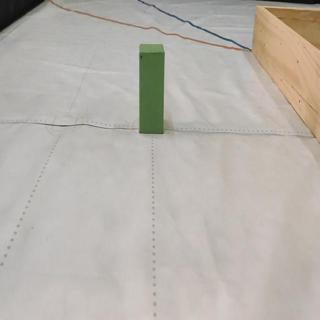greenbox: (138, 43, 166, 136)
